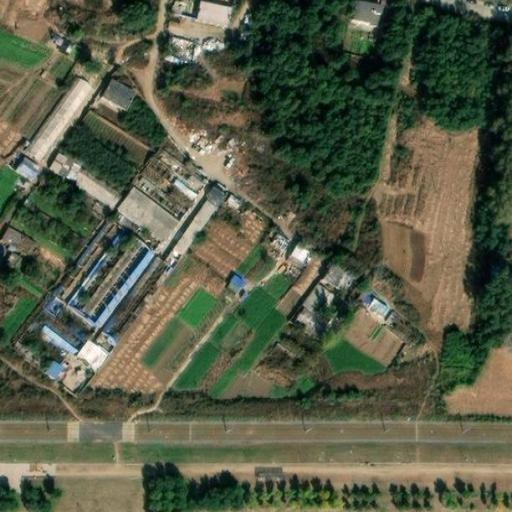building: (79, 236, 156, 328), (23, 75, 94, 164), (73, 100, 154, 167), (134, 143, 208, 210), (49, 152, 124, 212), (172, 185, 225, 257), (114, 186, 177, 244), (294, 286, 342, 335), (34, 324, 82, 366), (173, 0, 233, 24), (0, 220, 36, 255), (324, 261, 359, 294), (102, 77, 135, 109), (360, 292, 394, 322), (77, 339, 108, 370), (12, 153, 41, 181), (505, 168, 512, 260), (39, 360, 64, 385), (223, 268, 247, 291), (289, 242, 312, 264)
